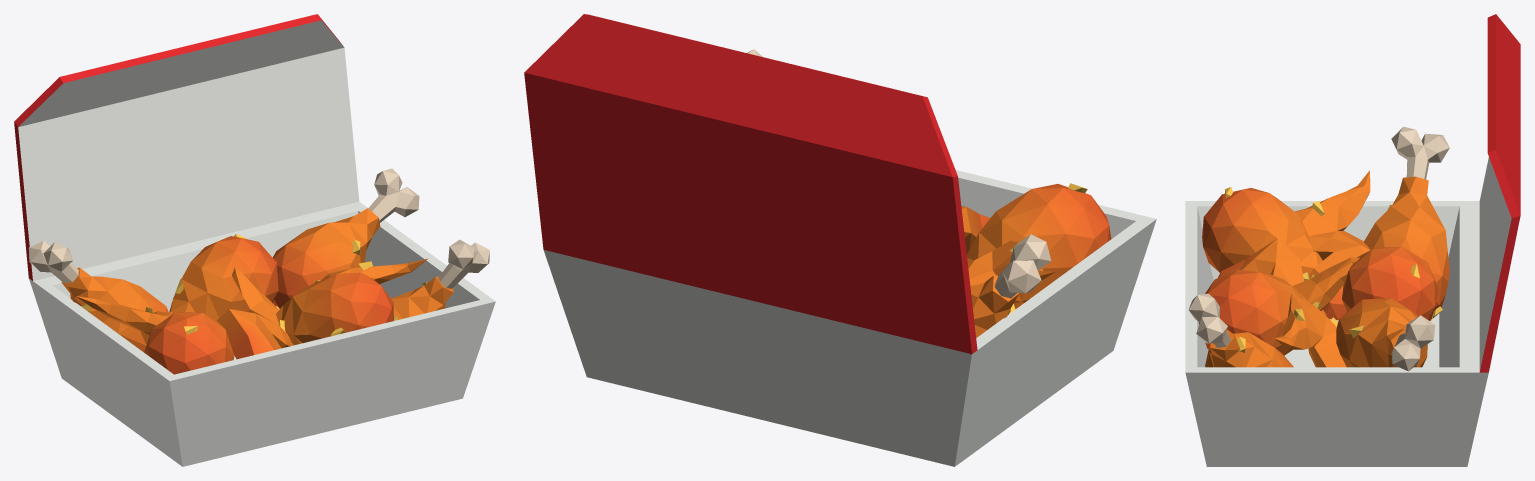
Rendered from chickenBox.FBX.
3 views of the same model, side by side, from view 1: azimuth 30°, elevation 25°; view 2: azimuth 150°, elevation 25°; view 3: azimuth 270°, elevation 25° (orthographic). The views are drawn at different scales.
Parts seen in each view (by area): view 1: chickenBox; view 2: chickenBox; view 3: chickenBox.
Boxes of the visible parts, x1,y1,x2,y2 form: chickenBox: (14,14,495,466); chickenBox: (524,14,1156,466); chickenBox: (1185,14,1520,466).
Size of the model in its own units: 6.13 by 4.49 by 4.38.
